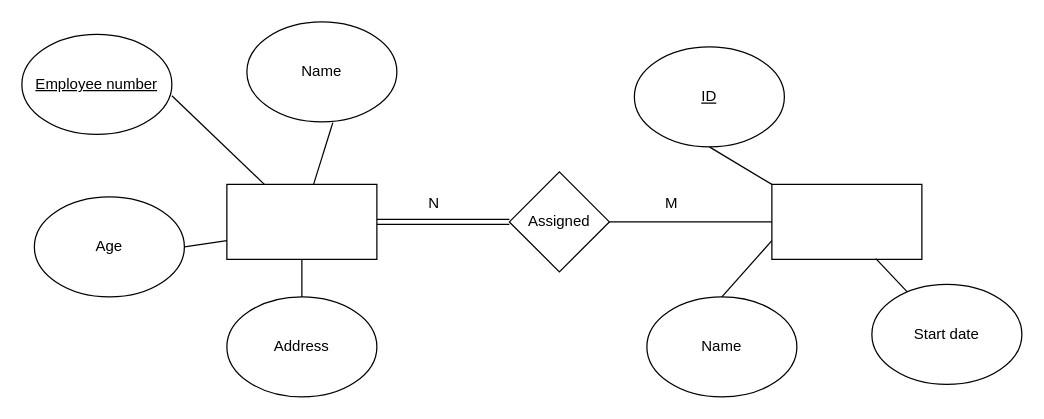
Image size: 1044x419. Some labels were removed from this diagram. Each missing label, with the centre of its shape:
EMPLOYEES: the point at 301,221
PROJECTS: the point at 846,221
